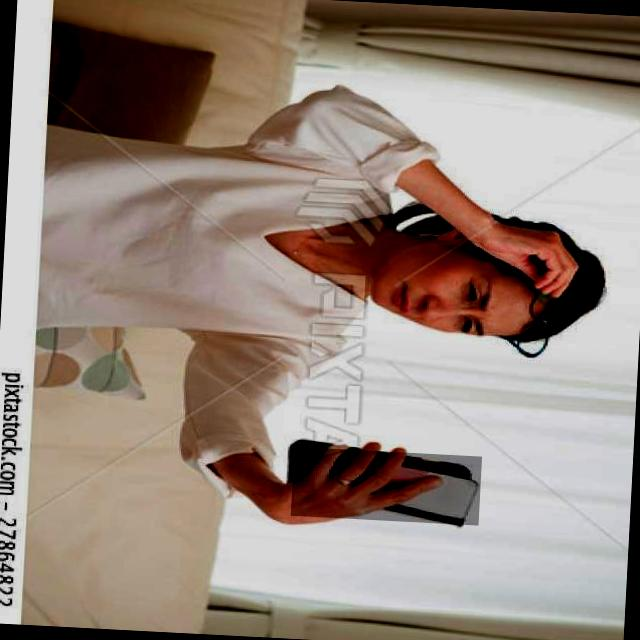phone: (289, 446, 481, 526)
